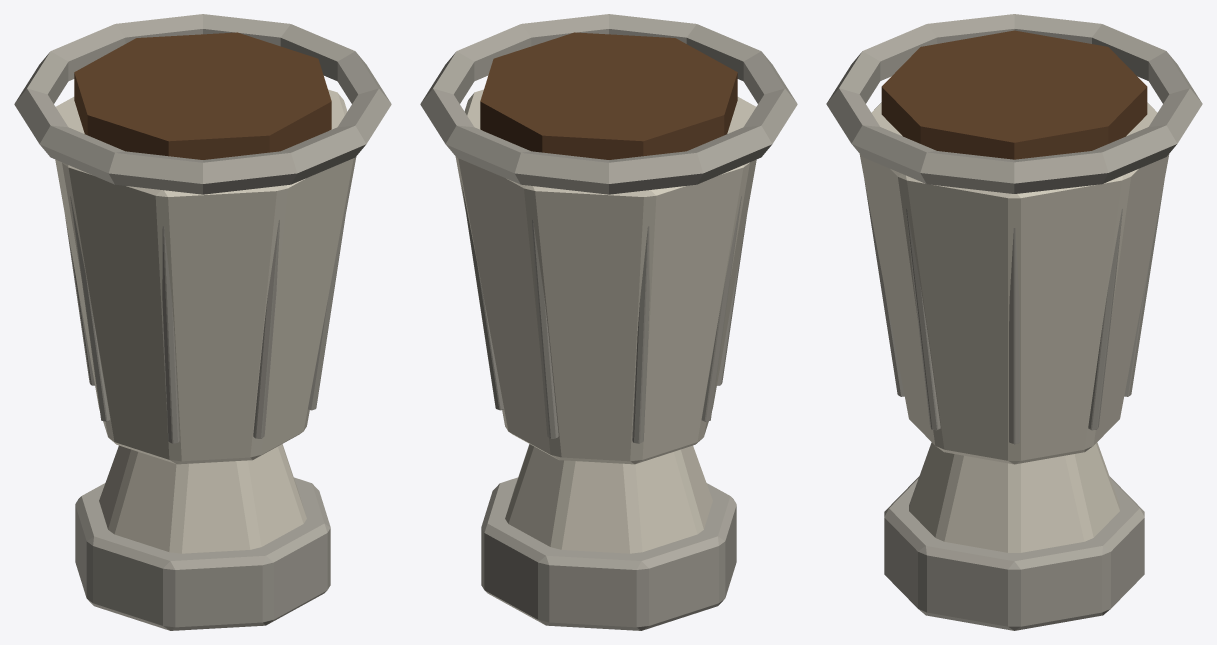
File: runtime.glb
3 renders of one model, left to right at view 1: azimuth 30°, elevation 25°; view 2: azimuth 150°, elevation 25°; view 3: azimuth 270°, elevation 25°, orthographic.
Visible parts, largest first — view 1: eiffel-historic-urn-v10_nocol; view 2: eiffel-historic-urn-v10_nocol; view 3: eiffel-historic-urn-v10_nocol.
Boxes of the visible parts, <box> form: eiffel-historic-urn-v10_nocol: <box>14,14,391,630</box>; eiffel-historic-urn-v10_nocol: <box>420,14,797,630</box>; eiffel-historic-urn-v10_nocol: <box>826,14,1202,630</box>.
Size of the model in its own units: 0.9792 by 1.41 by 0.9792.
